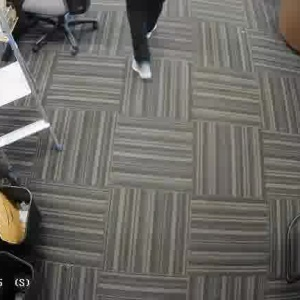person: (123, 0, 165, 84)
